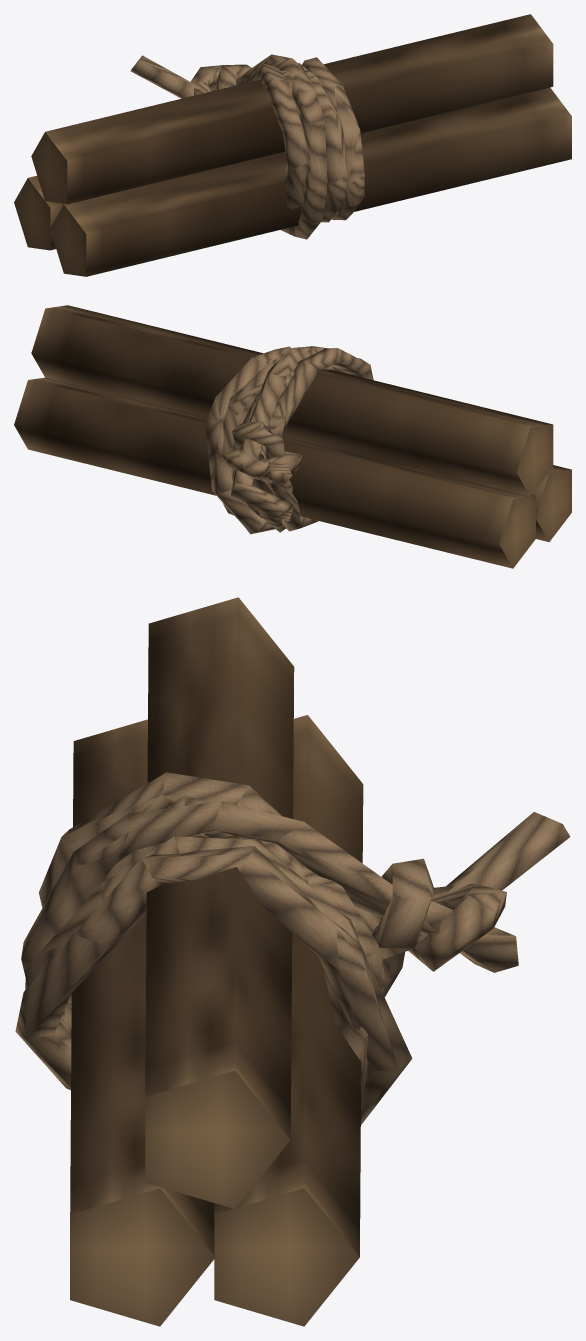
File: Tied Logs.fbx
The picture shows the model from 3 angles, top to bottom: view 1: azimuth 30°, elevation 25°; view 2: azimuth 150°, elevation 25°; view 3: azimuth 270°, elevation 25°; orthographic projection. The views are drawn at different scales.
Parts seen in each view (by area): view 1: Logs tied, rope; view 2: Logs tied, rope; view 3: Logs tied, rope.
Part boxes in pixels (x1,y1,x2,y2): Logs tied: [14, 14, 571, 276]; rope: [131, 54, 364, 239]; Logs tied: [14, 305, 571, 568]; rope: [205, 346, 373, 534]; Logs tied: [70, 597, 363, 1326]; rope: [15, 772, 570, 1124].
Size of the model in its own units: 209 by 70.48 by 104.
2 materials, 2 textured.
